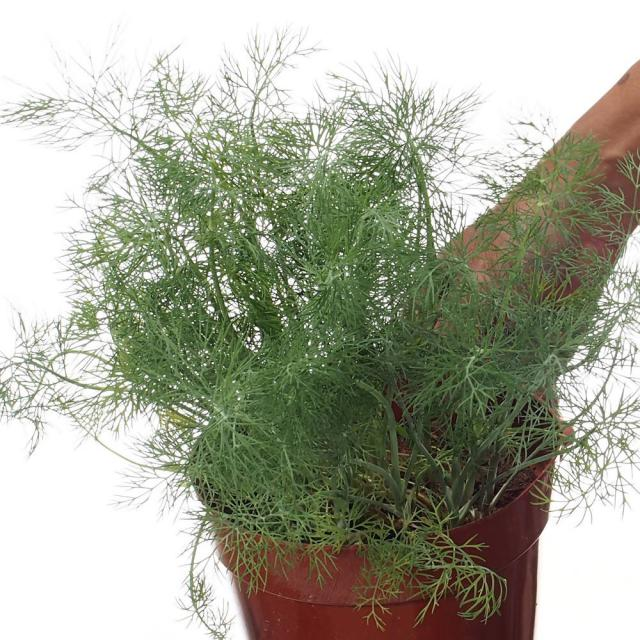Dill: (0, 24, 640, 590)
